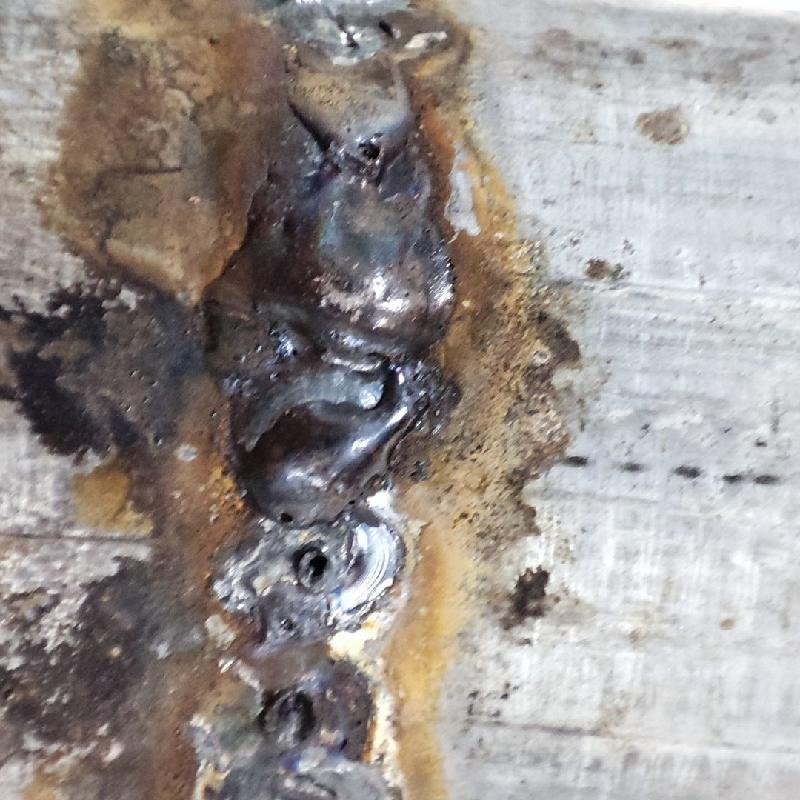Not_fully_soldered: (263, 0, 437, 190)
Surface_pores: (274, 534, 351, 591), (339, 115, 401, 181), (263, 500, 305, 536)
Weld: (195, 182, 463, 526)
